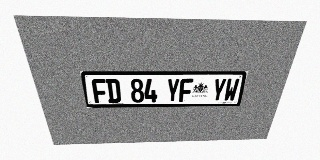4: (144, 79, 157, 102)
8: (130, 79, 144, 103)
D: (105, 79, 121, 103)
F: (91, 79, 108, 103), (179, 78, 193, 102)
W: (223, 78, 240, 101)
Y: (211, 78, 227, 102), (166, 79, 180, 102)
